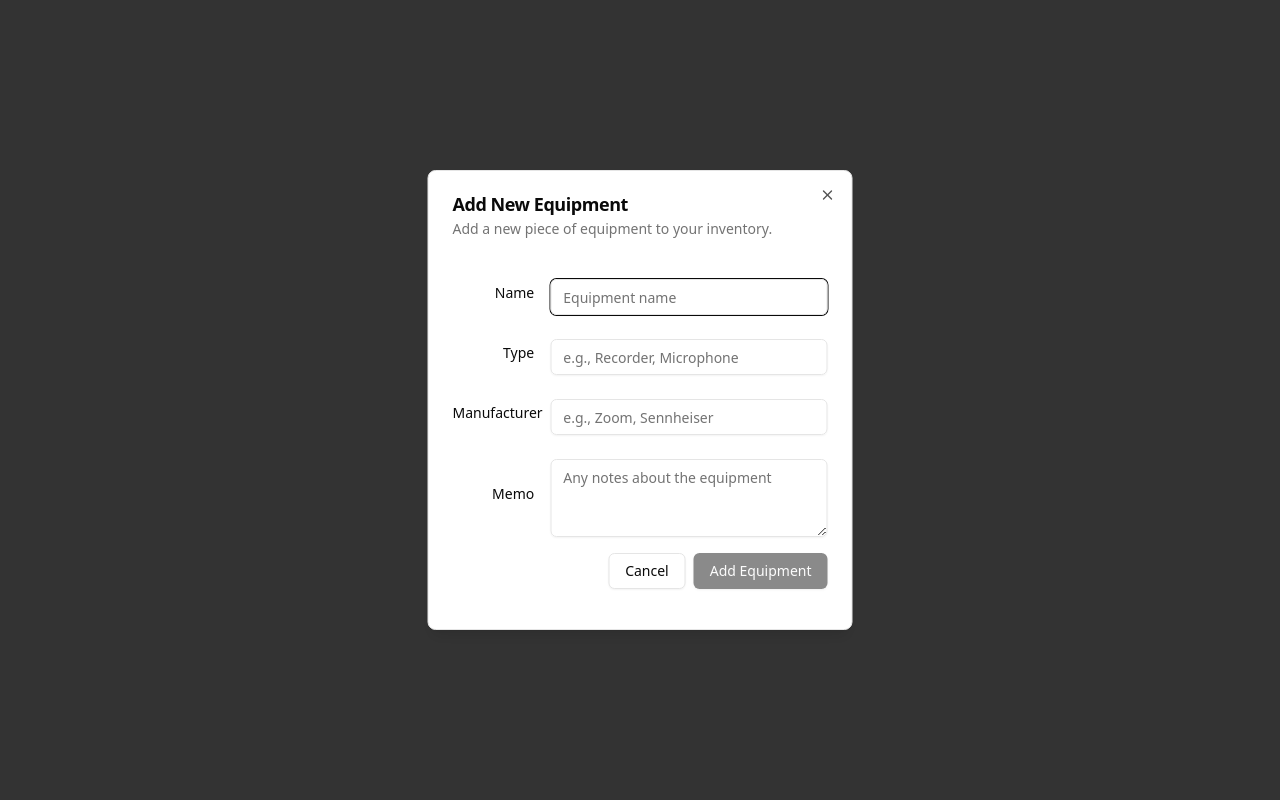
Scenario: EquipmentFormModal › shows unknown error message if submission fails with non-Error object
Type "Test Name" into the field labelled "Name". click: [689, 297]
box: [550,279,828,315]
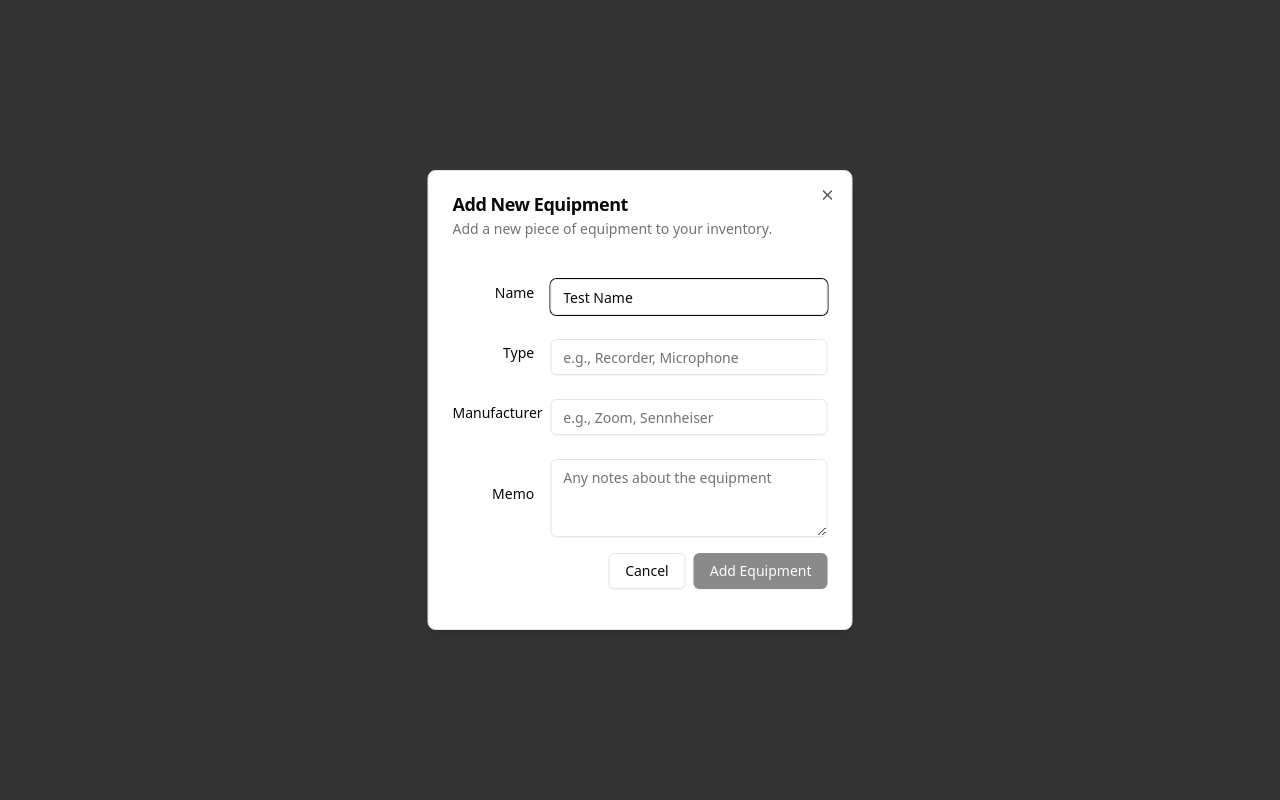
Type "Test Type" into the field labelled "Type". click: [689, 357]
box: [550,339,828,375]
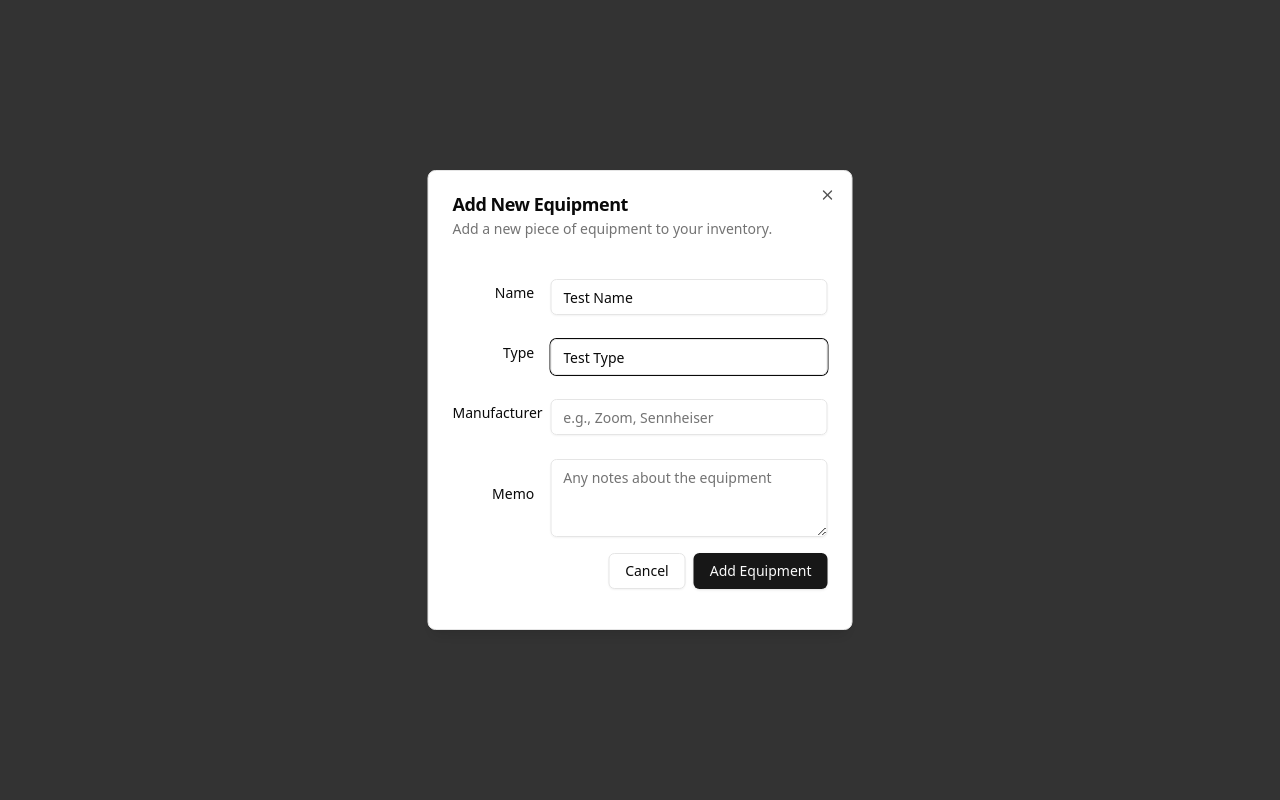
Click the button "Add Equipment". click: [761, 571]
box: [694,553,828,589]
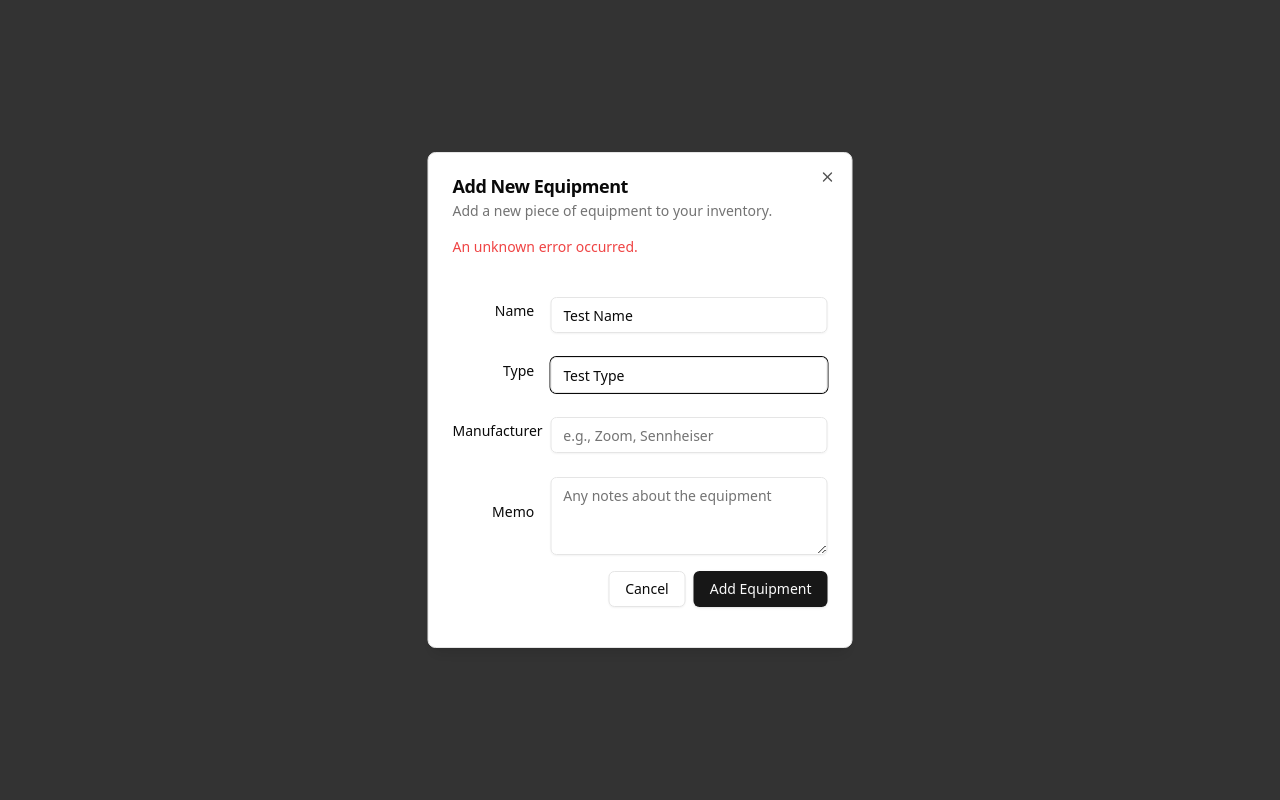
Now the text "An unknown error occurred." is shown, box [452,237,638,256]
